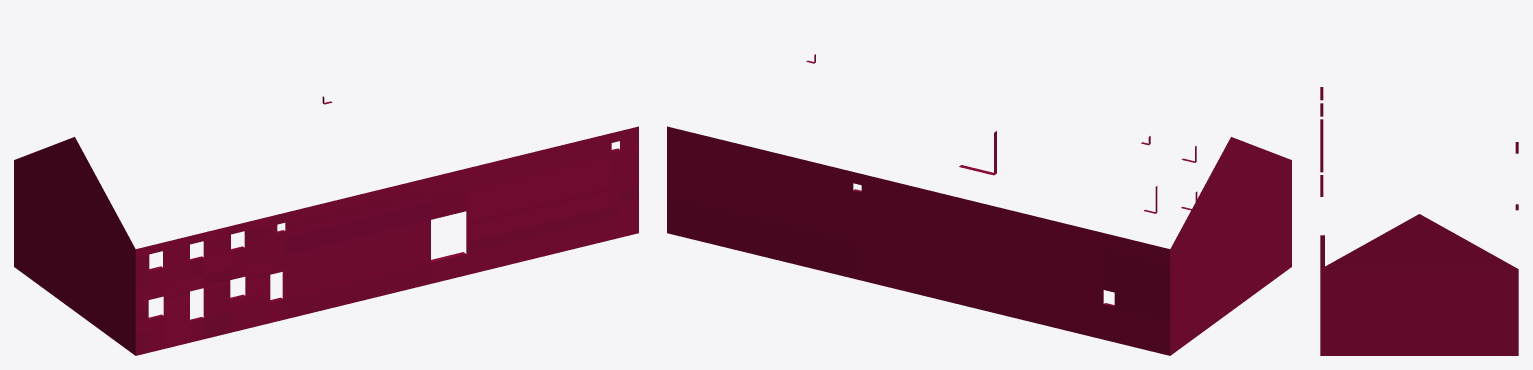
Rendered from SM_Bld_050_Masonry.glb.
3 views of the same model, side by side, from view 1: azimuth 30°, elevation 25°; view 2: azimuth 150°, elevation 25°; view 3: azimuth 270°, elevation 25° (orthographic). The views are drawn at different scales.
Visible parts, largest first — view 1: SM_Bld_050_Masonry; view 2: SM_Bld_050_Masonry; view 3: SM_Bld_050_Masonry.
Boxes of the visible parts, <box> form: SM_Bld_050_Masonry: <box>14,96,638,355</box>; SM_Bld_050_Masonry: <box>667,54,1291,355</box>; SM_Bld_050_Masonry: <box>1320,87,1518,355</box>.
Size of the model in its own units: 37 by 12.27 by 15.5.
